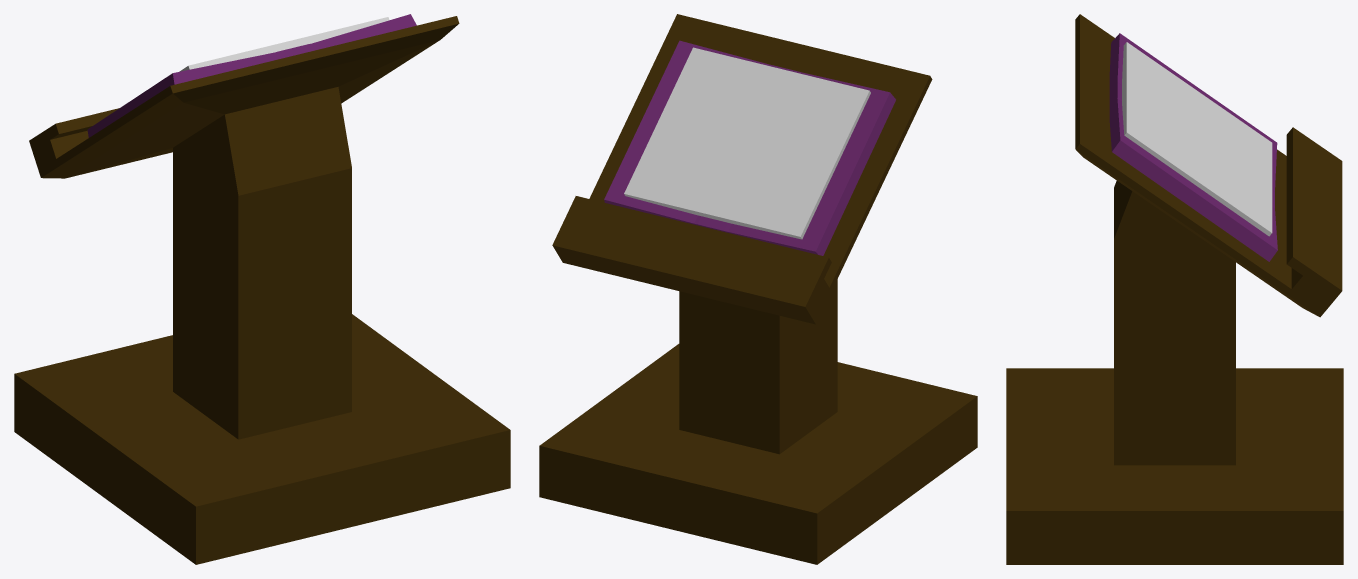
The model's file is lectern.fbx.
3 renders of one model, left to right at view 1: azimuth 30°, elevation 25°; view 2: azimuth 150°, elevation 25°; view 3: azimuth 270°, elevation 25°, orthographic. The views are drawn at different scales.
Parts seen in each view (by area): view 1: Cube, Cube.001, Cube.002; view 2: Cube, Cube.002, Cube.001; view 3: Cube, Cube.002, Cube.001.
Part boxes in pixels (x1,y1,x2,y2): Cube: (14,16,510,564); Cube.001: (87,14,416,137); Cube.002: (179,17,389,71); Cube: (539,14,977,564); Cube.002: (624,47,870,239); Cube.001: (604,40,895,255); Cube: (1006,14,1343,564); Cube.002: (1122,42,1272,236); Cube.001: (1109,33,1277,261).
Size of the model in its own units: 194 by 264 by 194.
